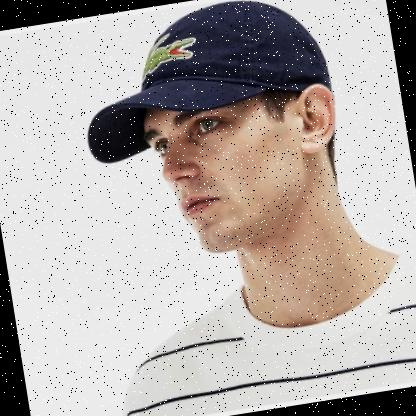sem_capacete: (65, 0, 368, 273)
sem_colete_refletivo: (98, 234, 415, 415)
